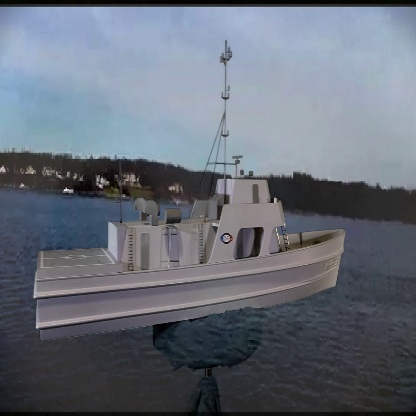YP689: (33, 38, 346, 346)
